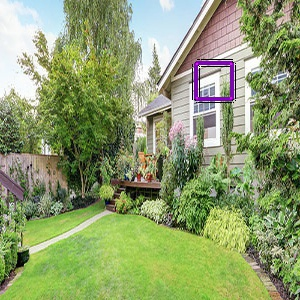square: (191, 58, 238, 104)
